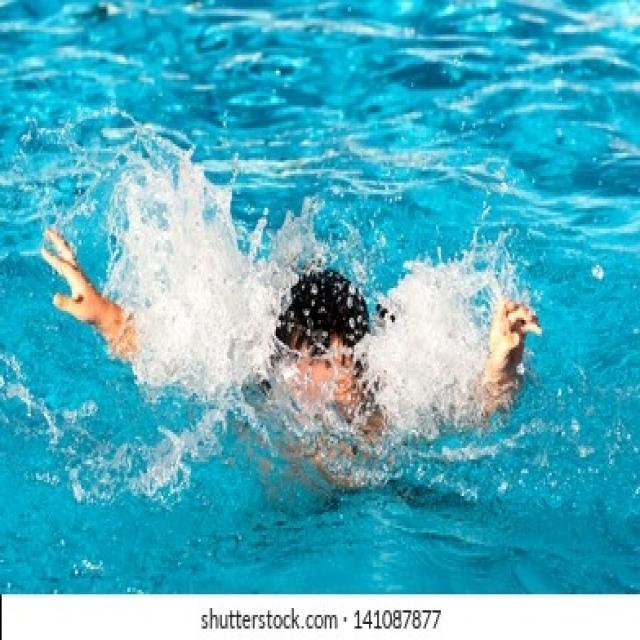Out of Water: (36, 218, 542, 512)
